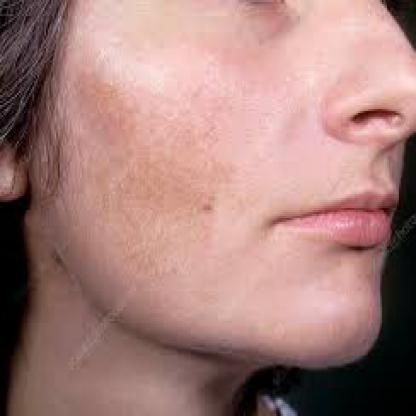darkspot: (75, 56, 171, 274), (193, 190, 225, 220)
puffyeye: (218, 6, 314, 42)
